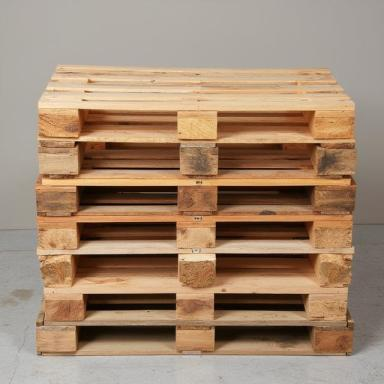pallet: (38, 64, 356, 139), (36, 294, 355, 356), (35, 174, 358, 216), (36, 246, 355, 288), (38, 137, 356, 179), (38, 215, 353, 250), (44, 286, 348, 321), (78, 326, 176, 346), (79, 186, 178, 205), (215, 326, 308, 342), (218, 186, 305, 193)
